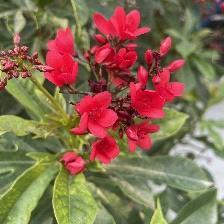jatropha: (74, 92, 121, 138), (93, 6, 145, 42), (129, 83, 170, 121), (40, 53, 82, 88), (127, 124, 163, 153), (89, 132, 120, 165), (63, 153, 87, 175)
